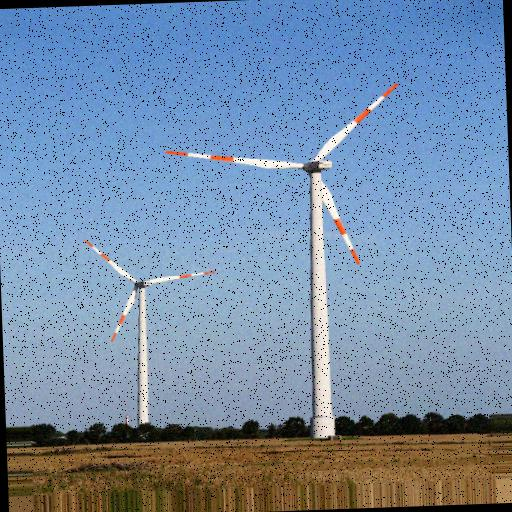wind turbine: (163, 83, 401, 432), (82, 237, 219, 435)
